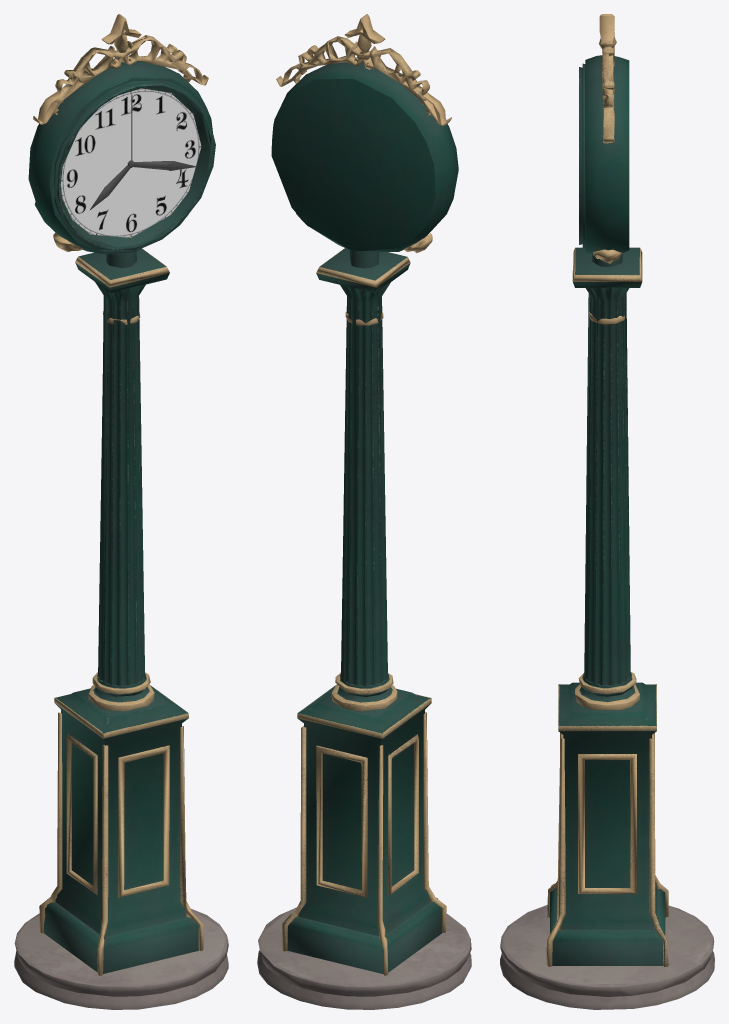
Rendered from Clock.glb.
3 views of the same model, side by side, from view 1: azimuth 30°, elevation 25°; view 2: azimuth 150°, elevation 25°; view 3: azimuth 270°, elevation 25° (orthographic).
Visible parts, largest first — view 1: 3d66-Editable_Poly-21536706-006; view 2: 3d66-Editable_Poly-21536706-006; view 3: 3d66-Editable_Poly-21536706-006.
Boxes of the visible parts, x1,y1,x2,y2 form: 3d66-Editable_Poly-21536706-006: [14, 14, 228, 1009]; 3d66-Editable_Poly-21536706-006: [257, 14, 471, 1009]; 3d66-Editable_Poly-21536706-006: [500, 14, 714, 1009].
Size of the model in its own units: 0.2886 by 1.41 by 0.2888.
Materials: 1 (1 with a texture image).
